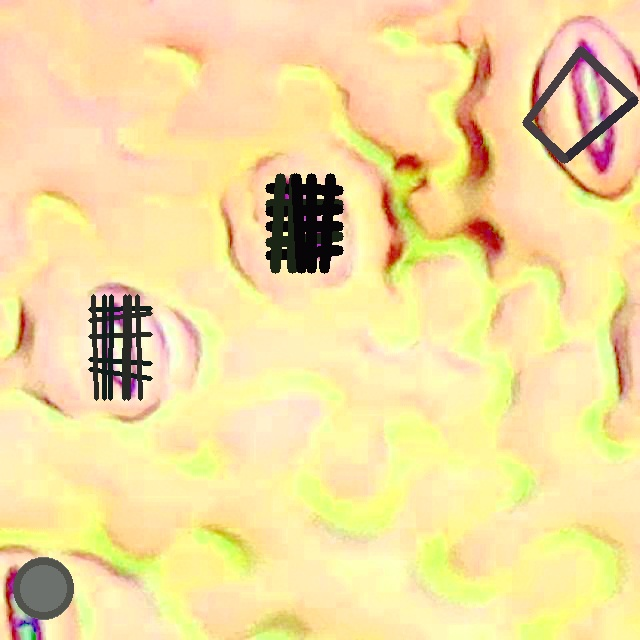open: (522, 46, 638, 163), (266, 173, 342, 273), (88, 295, 152, 400), (14, 557, 72, 619)
